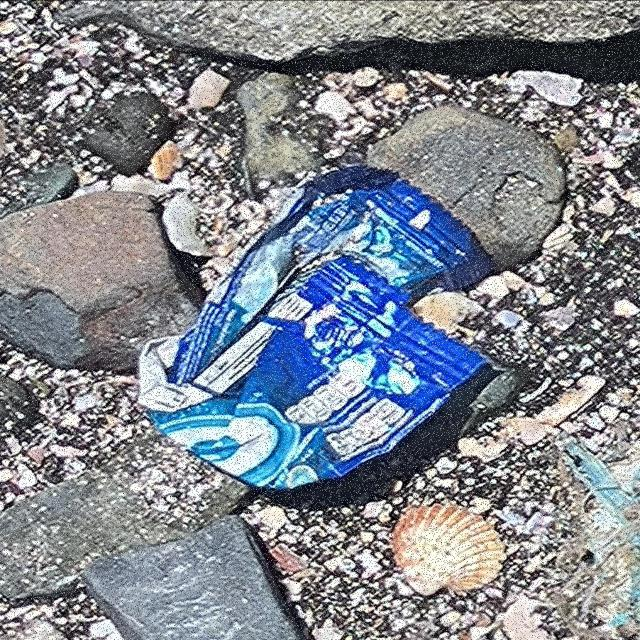plastic_waste: (137, 164, 501, 493)
